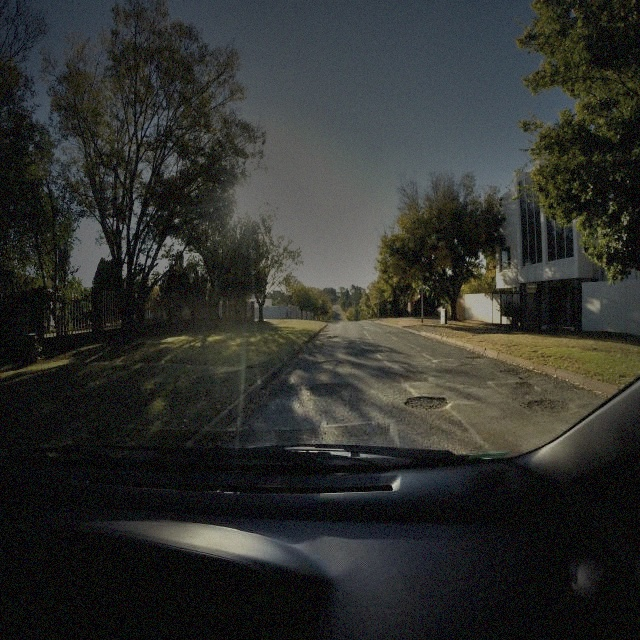pothole: (404, 395, 450, 411), (526, 401, 577, 415), (306, 384, 348, 396), (313, 358, 344, 369), (517, 382, 542, 393), (500, 369, 520, 375), (466, 355, 484, 360), (327, 334, 338, 338)
